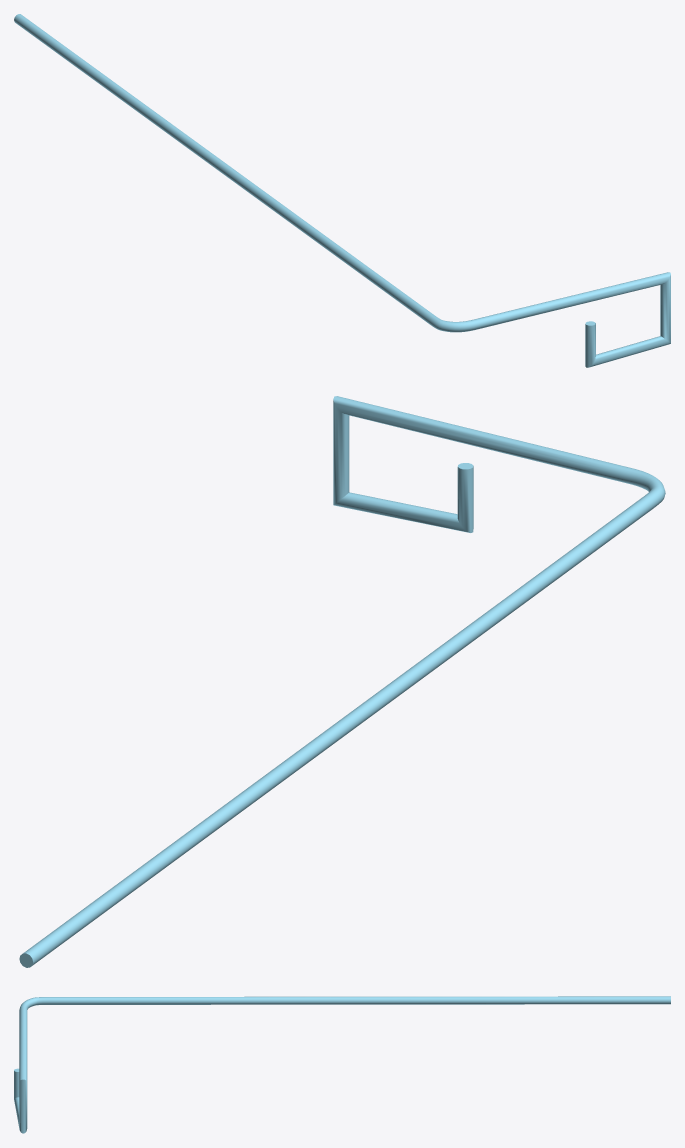
The model's file is m_cable_thing.FBX.
3 views of the same model, one above another, from view 1: azimuth 30°, elevation 25°; view 2: azimuth 150°, elevation 25°; view 3: azimuth 270°, elevation 25° (orthographic). The views are drawn at different scales.
Visible parts, largest first — view 1: cable; view 2: cable; view 3: cable.
Boxes of the visible parts, box(x1,y1,x2,y2) form: cable: box(14, 14, 670, 367); cable: box(19, 396, 665, 967); cable: box(14, 996, 670, 1133).
Bounding box in the file's own units: 33.29 × 9.91 × 109.
